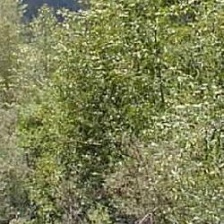neutral: (3, 4, 223, 223)
